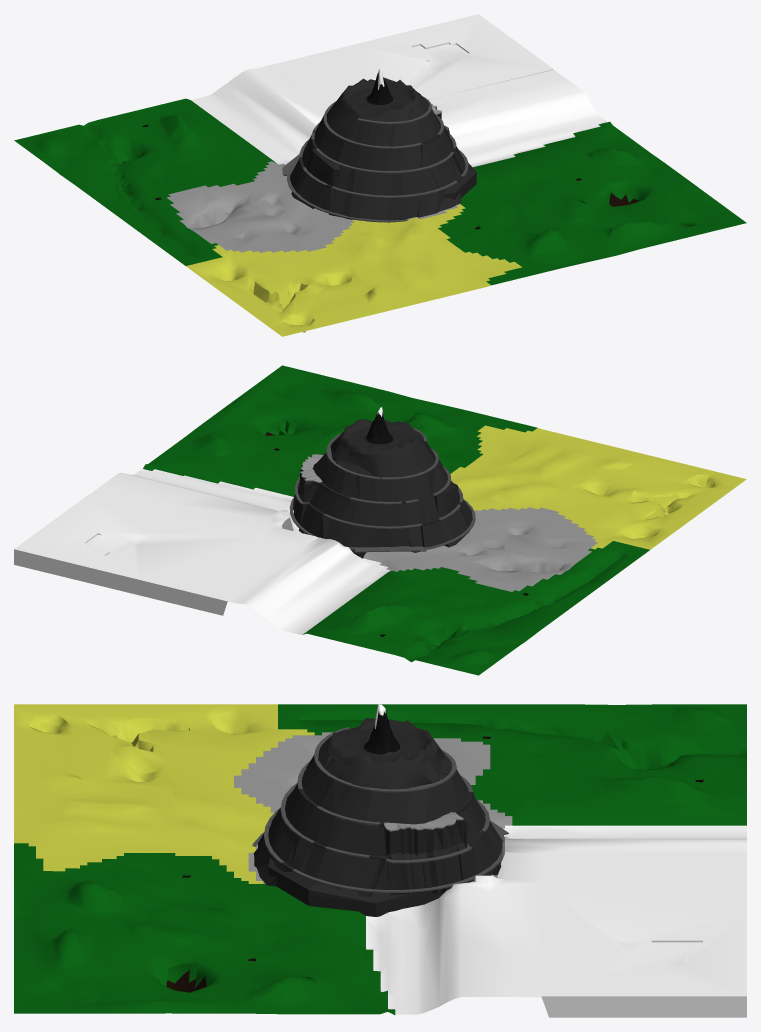
The model's file is Mir.fbx.
3 views of the same model, one above another, from view 1: azimuth 30°, elevation 25°; view 2: azimuth 150°, elevation 25°; view 3: azimuth 270°, elevation 25° (orthographic). The views are drawn at different scales.
Parts seen in each view (by area): view 1: Plane002, Cylinder001; view 2: Plane002, Cylinder001; view 3: Plane002, Cylinder001, Cylinder002.
Part boxes in pixels (x1,y1,x2,y2): Plane002: (14, 14, 746, 336); Cylinder001: (282, 69, 468, 222); Plane002: (14, 365, 746, 675); Cylinder001: (289, 407, 475, 552); Plane002: (14, 704, 746, 1017); Cylinder001: (252, 704, 508, 900); Cylinder002: (268, 853, 501, 916).
Bounding box in the file's own units: 35000 × 10707 × 35001.
